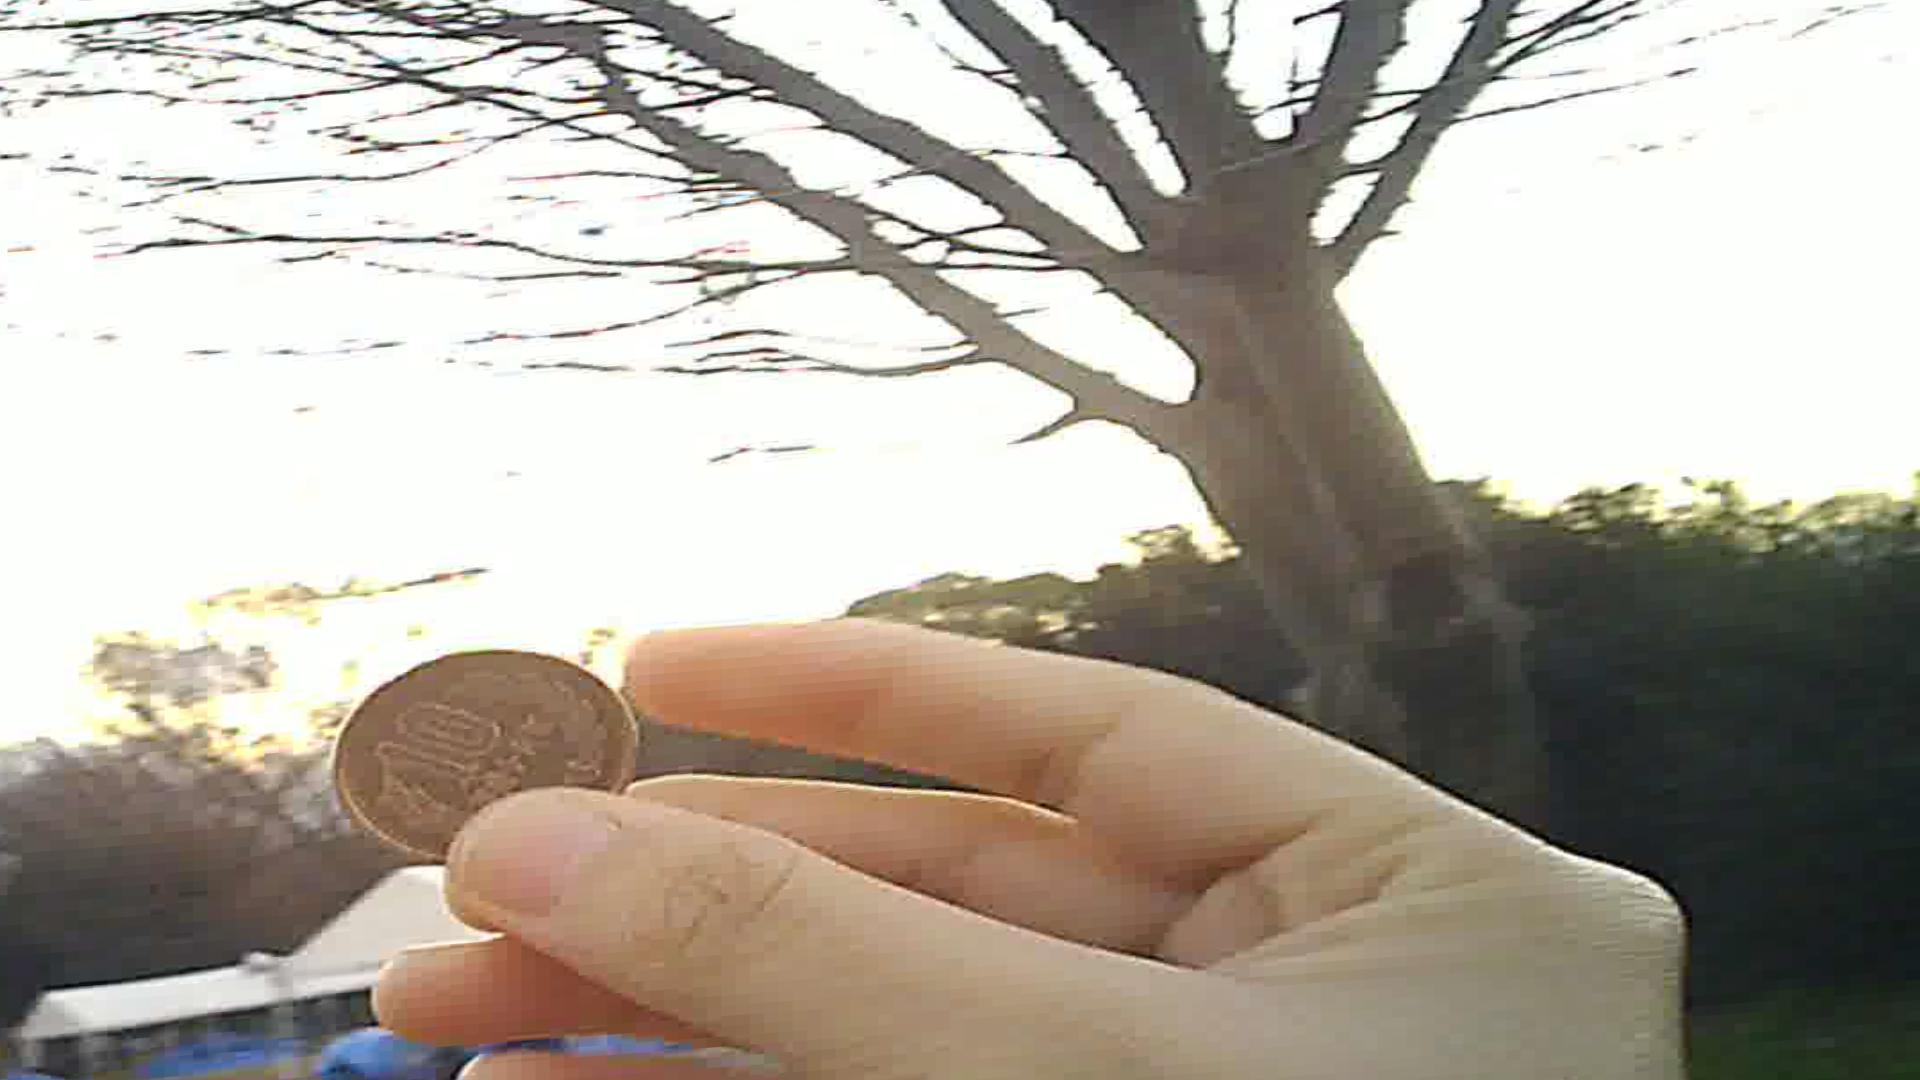10 Yen: (322, 633, 649, 865)
